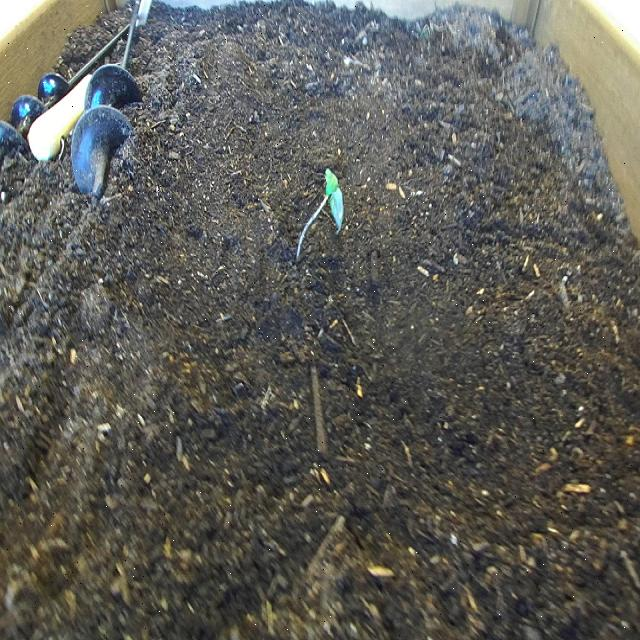Healthy: (292, 166, 346, 272)
